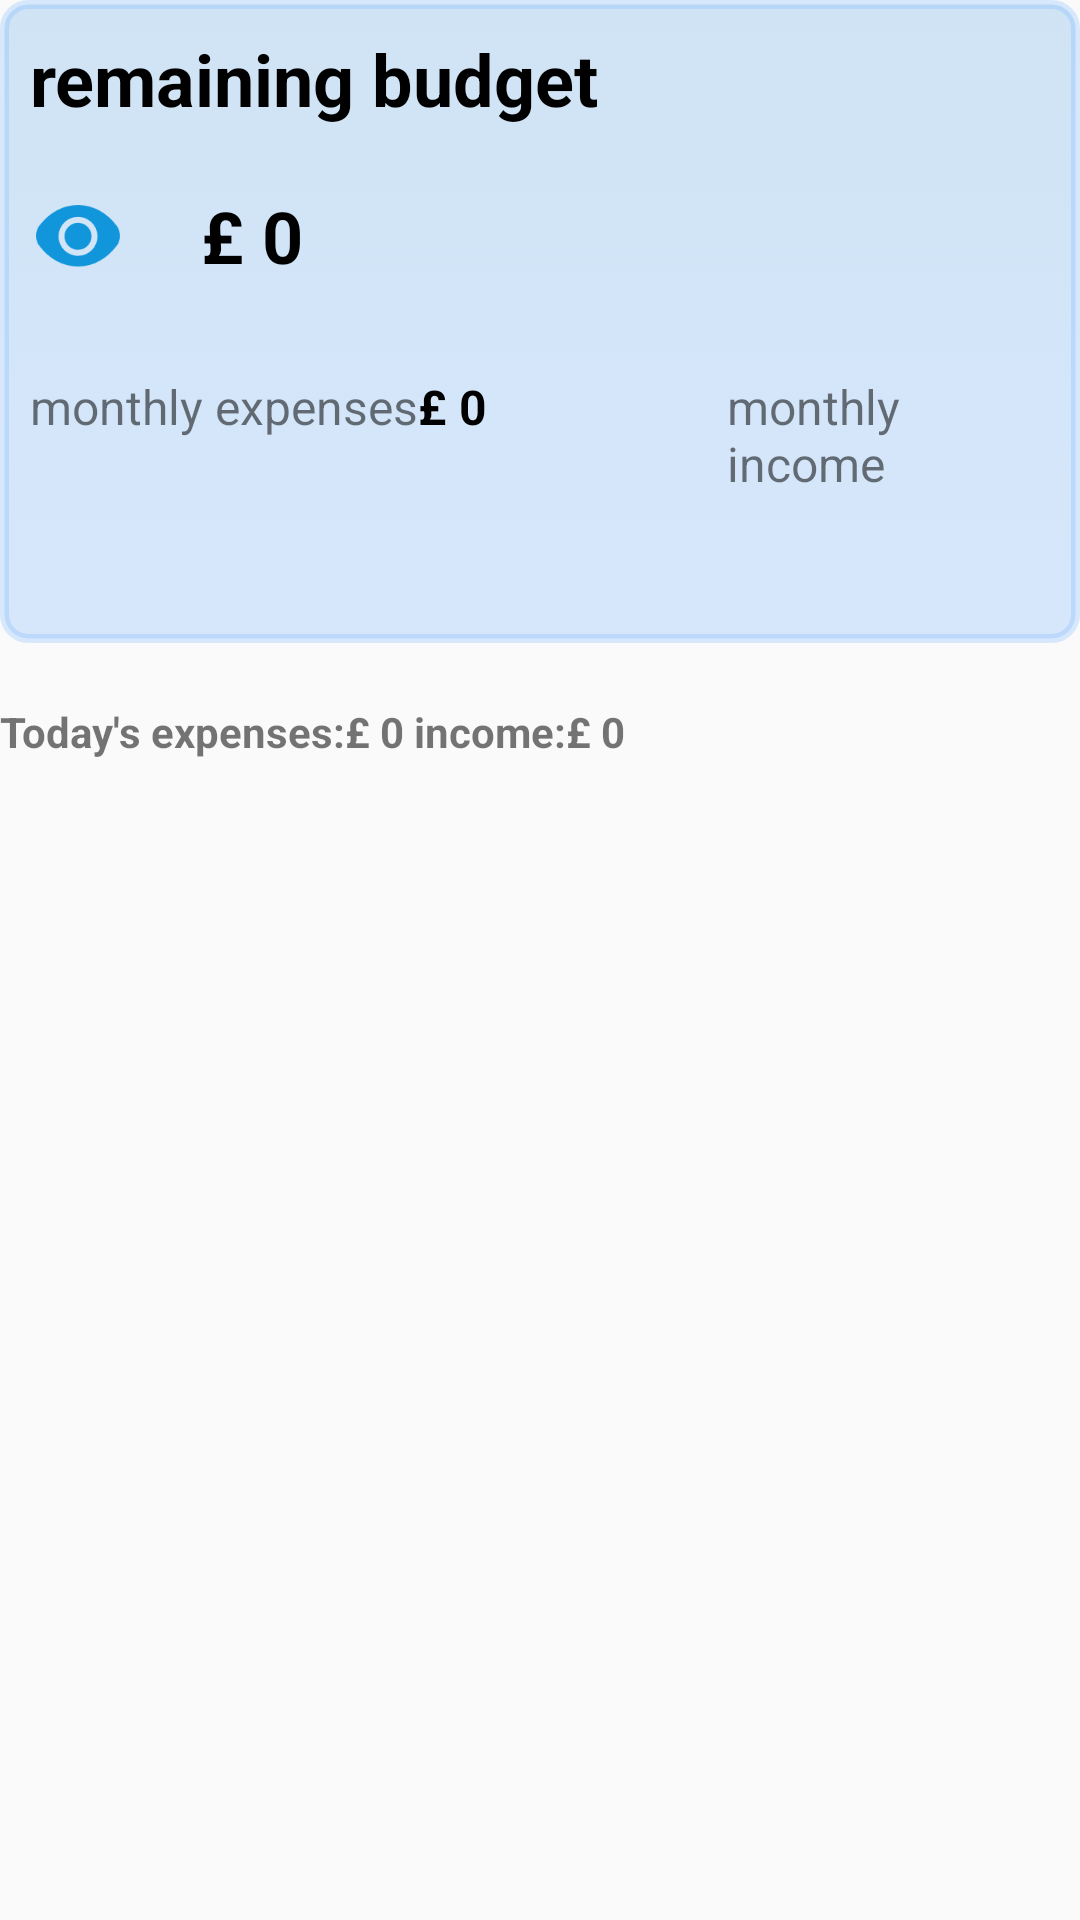

Screen size 1080w x 1920h. Icon name, then its box in pixels as {"left": x1, "top": y1, "right": x2, "bottom": y2}:
ih show: {"left": 36, "top": 205, "right": 120, "bottom": 267}
